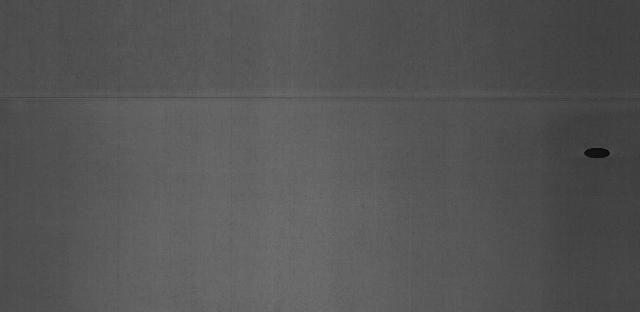punching_hole: (581, 143, 612, 163)
welding_line: (9, 80, 637, 113)
